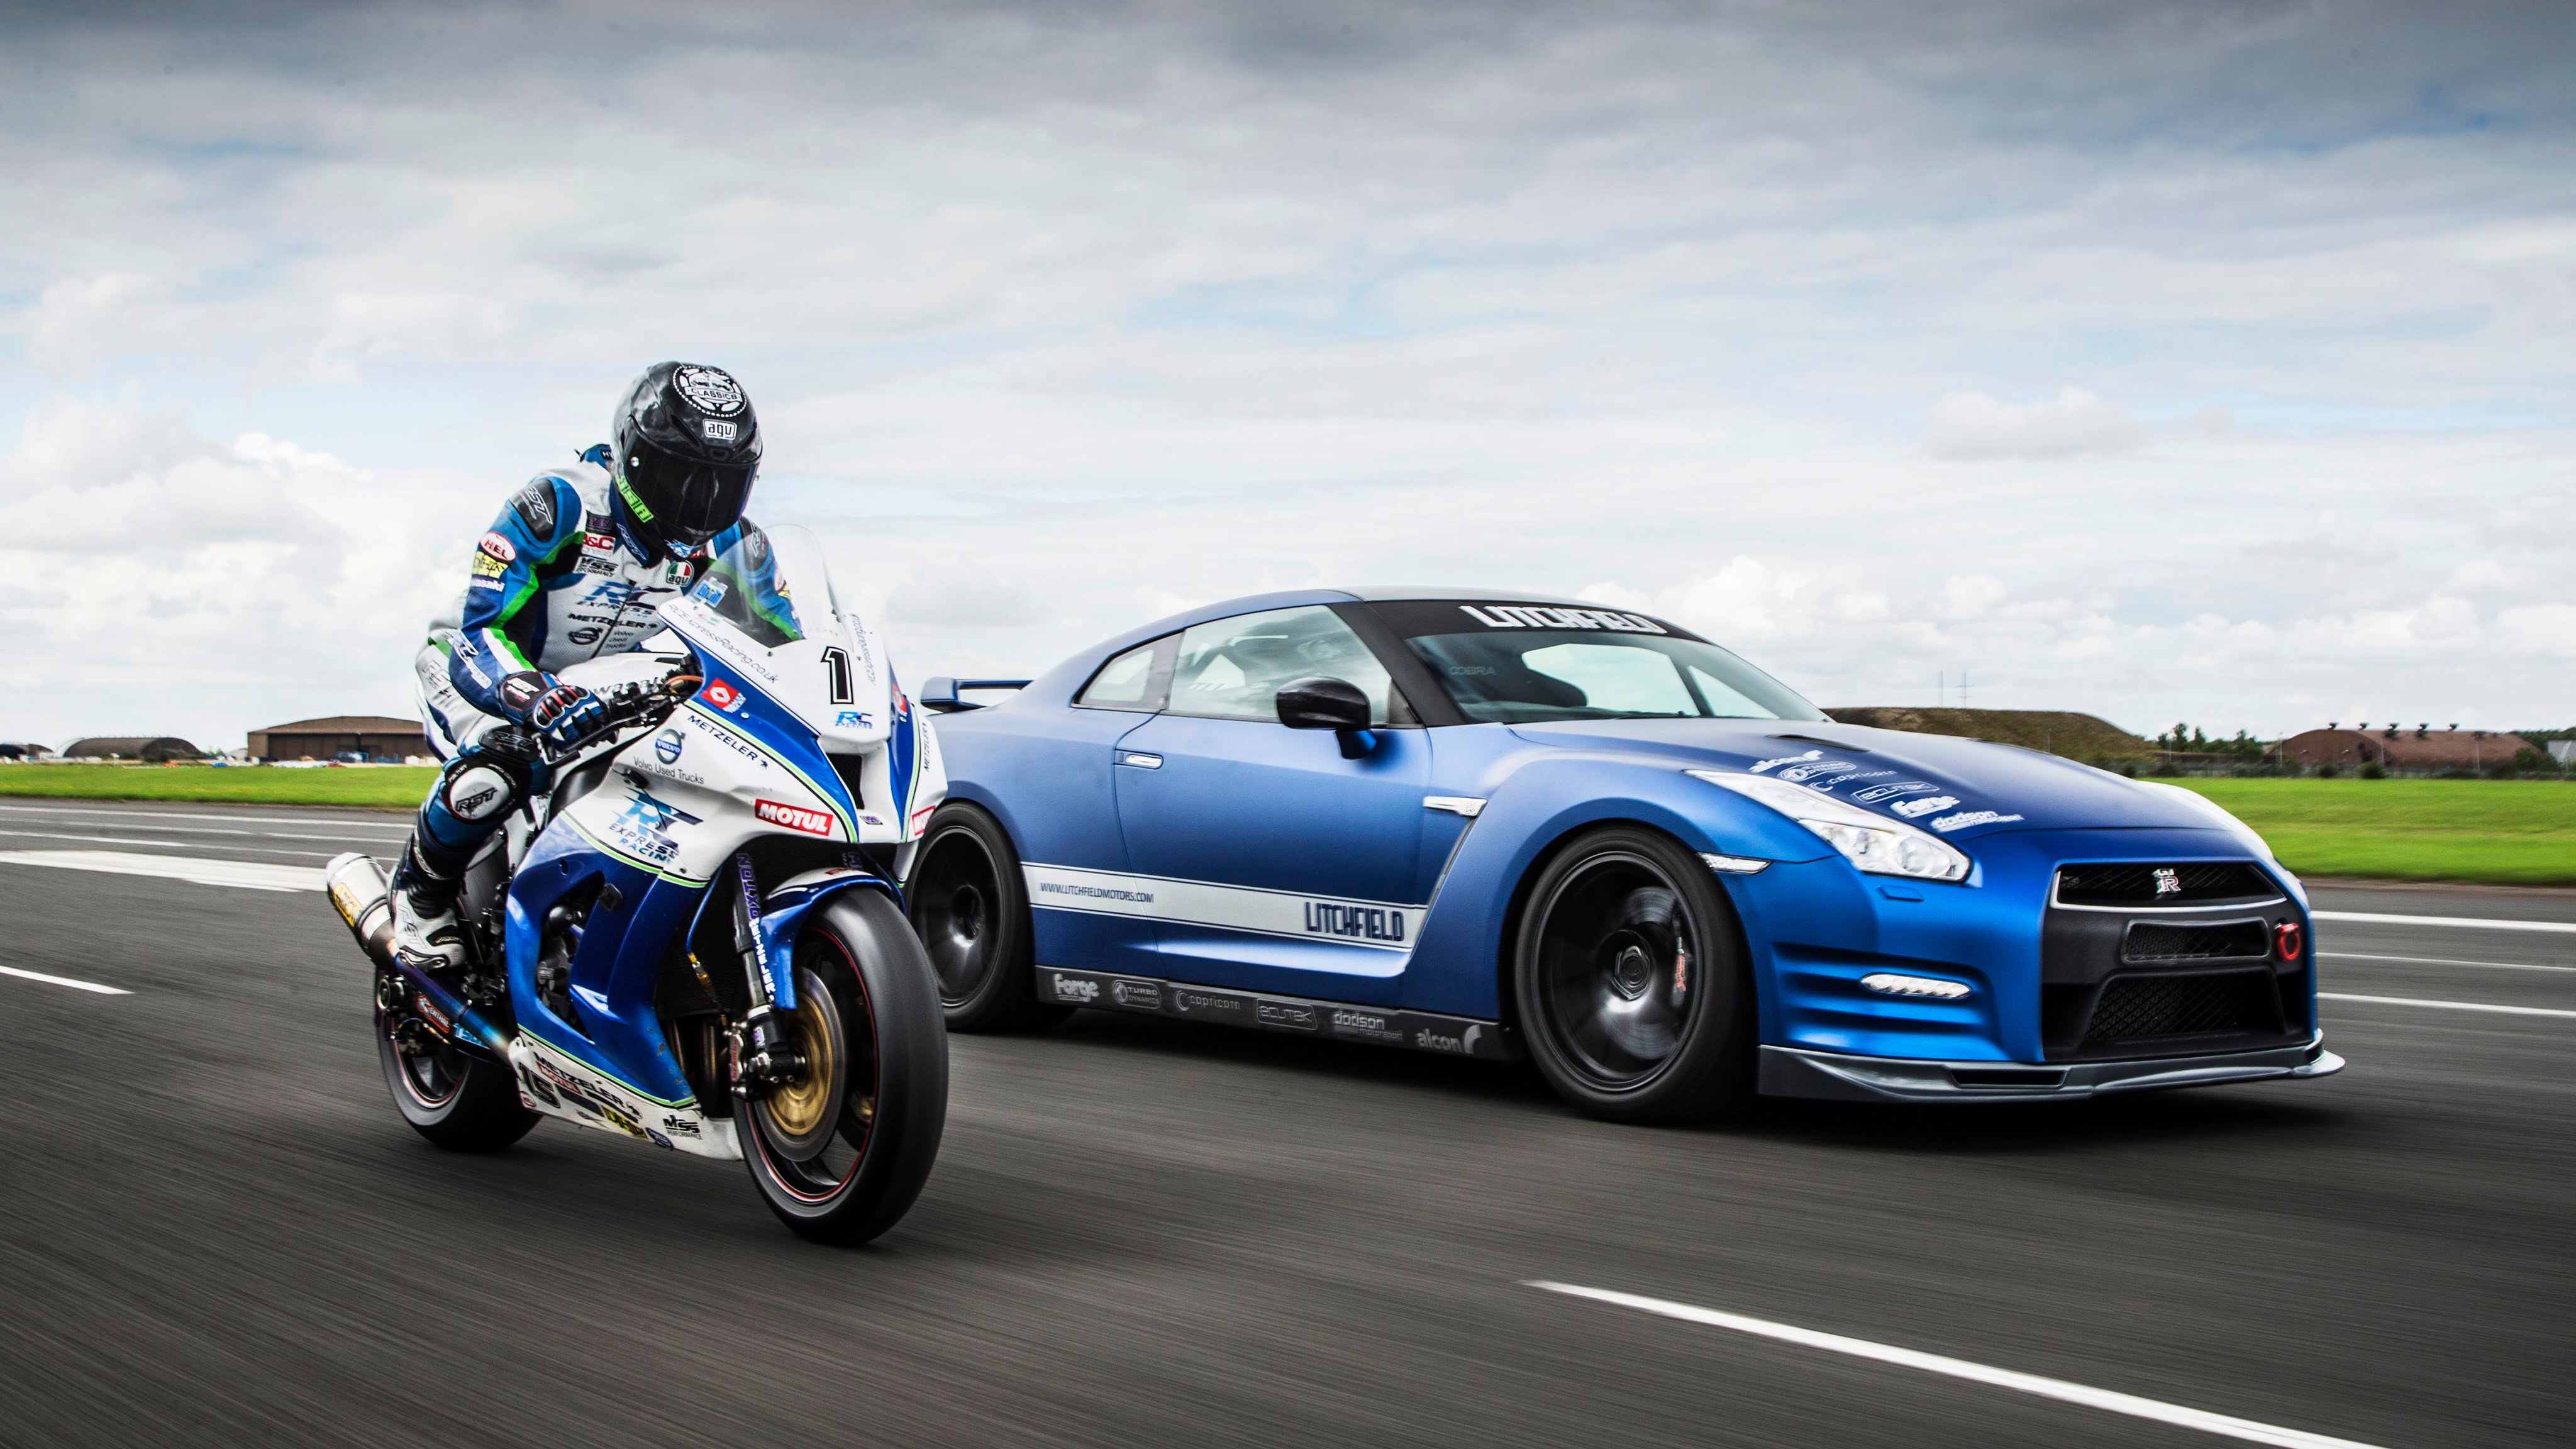car: (941, 570, 2387, 1189)
motorcycle: (338, 354, 939, 1251)
